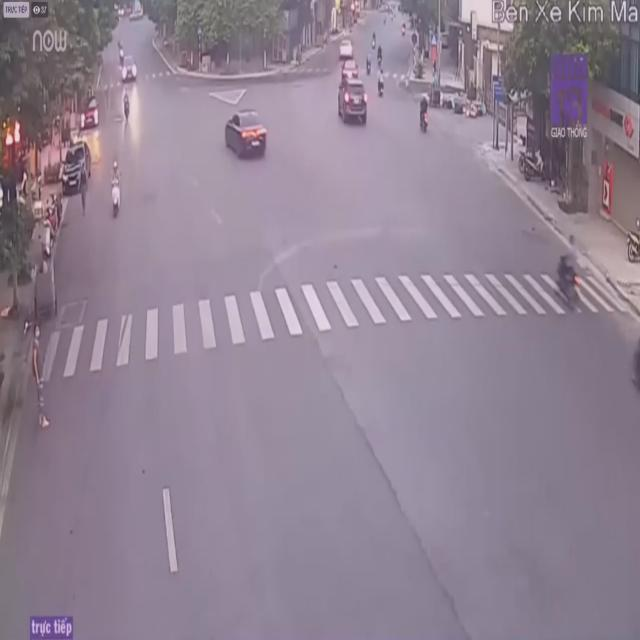car: (225, 110, 270, 160), (338, 74, 369, 126)
motorbike: (554, 239, 580, 305), (111, 161, 126, 221), (418, 95, 428, 133)
